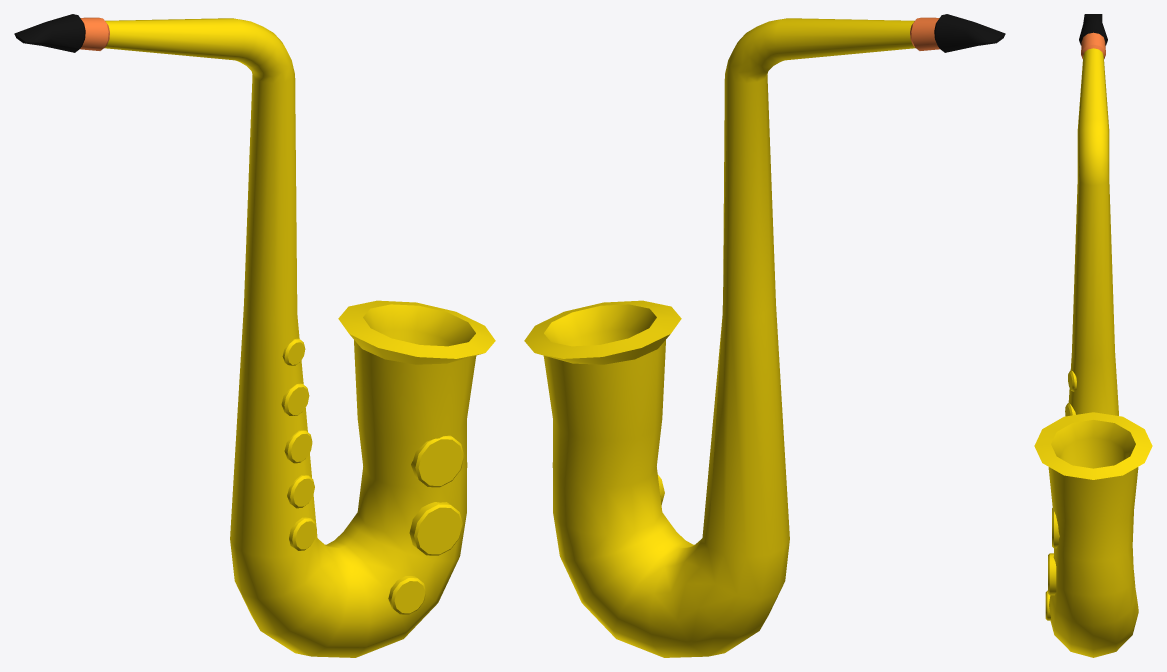
File: sax.FBX
3 renders of one model, left to right at view 1: azimuth 30°, elevation 25°; view 2: azimuth 150°, elevation 25°; view 3: azimuth 270°, elevation 25°, orthographic. The views are drawn at different scales.
Visible parts, largest first — view 1: Sax; view 2: Sax; view 3: Sax.
Part boxes in pixels (left/top/right/bottom): Sax: left=14, top=14, right=495, bottom=657; Sax: left=524, top=14, right=1005, bottom=657; Sax: left=1034, top=14, right=1152, bottom=657.
Size of the model in its own units: 47.09 by 68.03 by 13.97.
